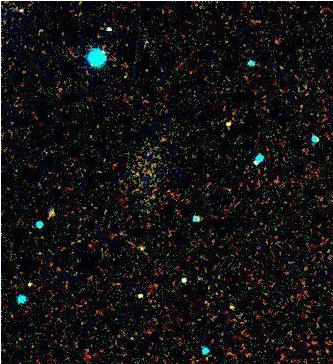star: (128, 231, 158, 261)
